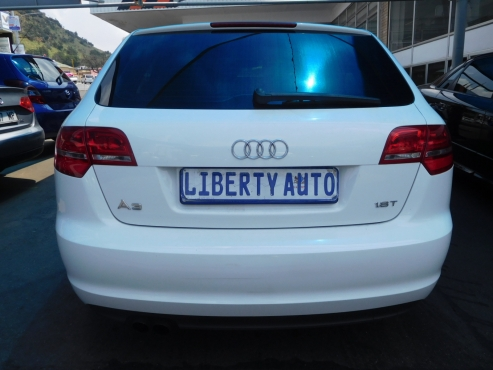audi: (226, 132, 297, 164)
